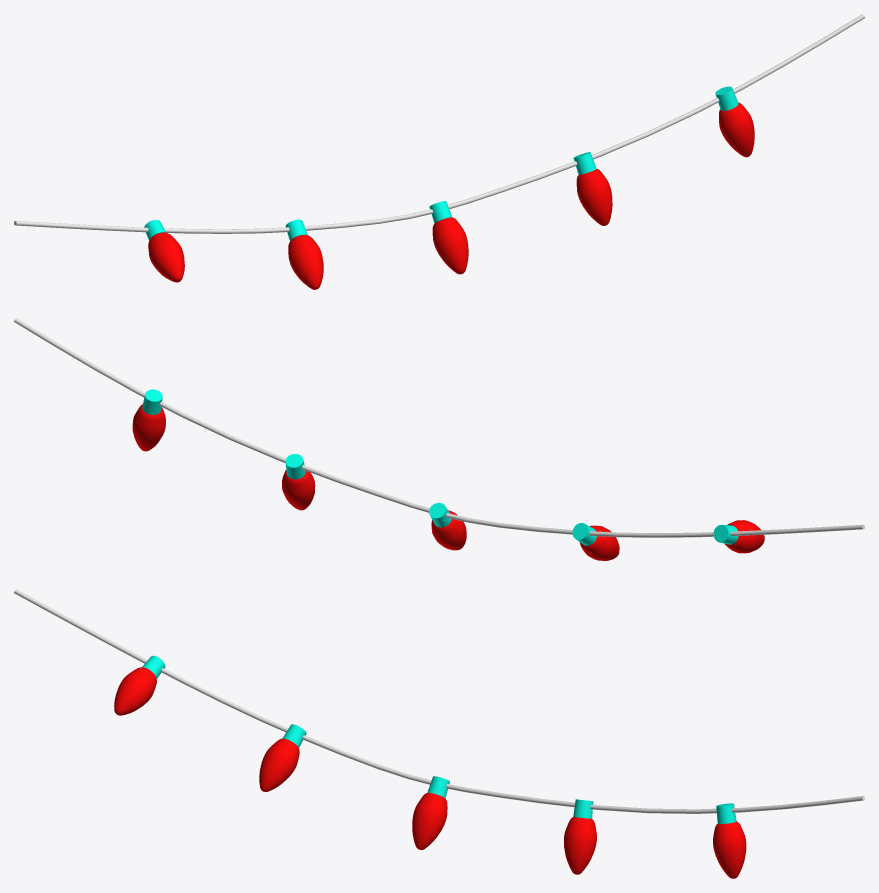
The model's file is ChristmasLight1.fbx.
3 views of the same model, one above another, from view 1: azimuth 30°, elevation 25°; view 2: azimuth 150°, elevation 25°; view 3: azimuth 330°, elevation 25° (orthographic).
Visible parts, largest first — view 1: Line003, Object004, Object003, Object005, Object002, Object001; view 2: Line003, Object005, Object004, Object003, Object002, Object001; view 3: Line003, Object005, Object003, Object004, Object002, Object001.
Part boxes in pixels (<box>): Line003: <box>14,14,864,233</box>; Object004: <box>573,152,612,225</box>; Object003: <box>429,201,468,274</box>; Object005: <box>715,86,754,157</box>; Object002: <box>285,219,323,289</box>; Object001: <box>144,219,184,282</box>; Line003: <box>14,318,864,537</box>; Object005: <box>132,389,165,451</box>; Object004: <box>282,454,315,510</box>; Object003: <box>429,502,466,550</box>; Object002: <box>572,523,619,560</box>; Object001: <box>713,520,764,553</box>; Line003: <box>14,589,864,813</box>; Object005: <box>713,803,746,878</box>; Object003: <box>412,776,449,849</box>; Object004: <box>564,799,596,874</box>; Object002: <box>259,724,306,791</box>; Object001: <box>114,655,165,715</box>.
Size of the model in its own units: 1297 by 208 by 96.76.
